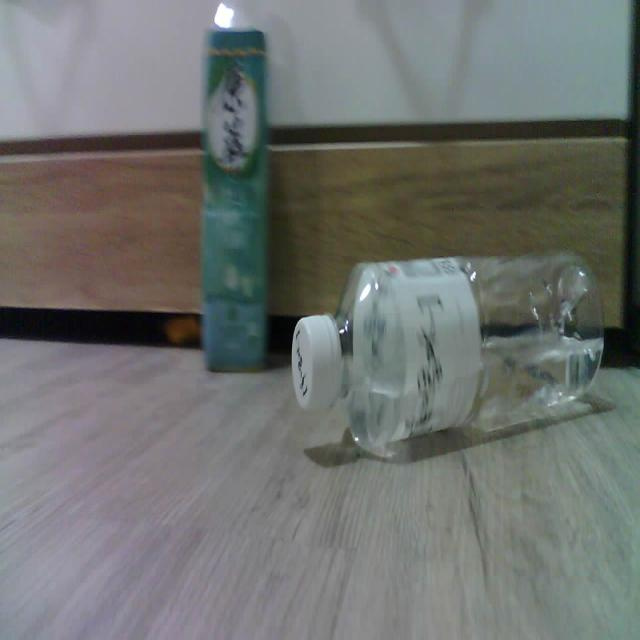bottle: (292, 254, 604, 455), (200, 0, 270, 370)
